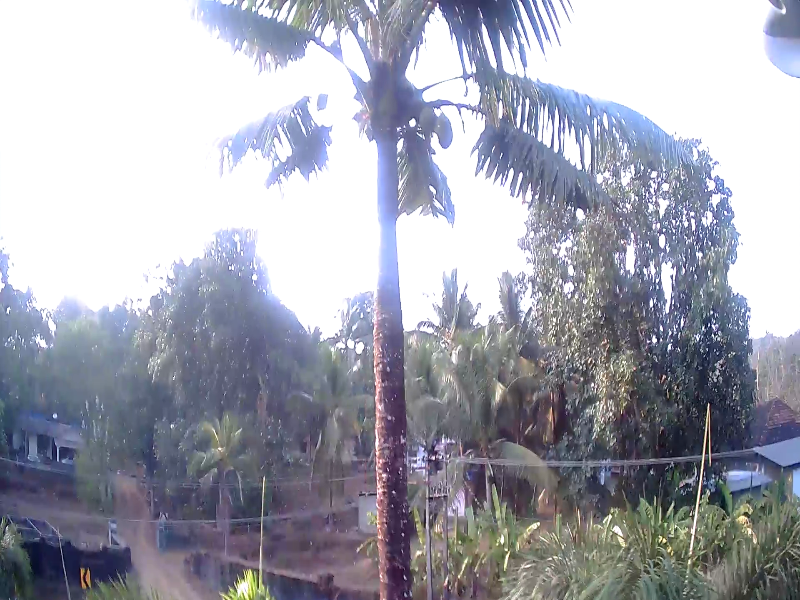coconut: (435, 108, 452, 151), (418, 100, 437, 133)
